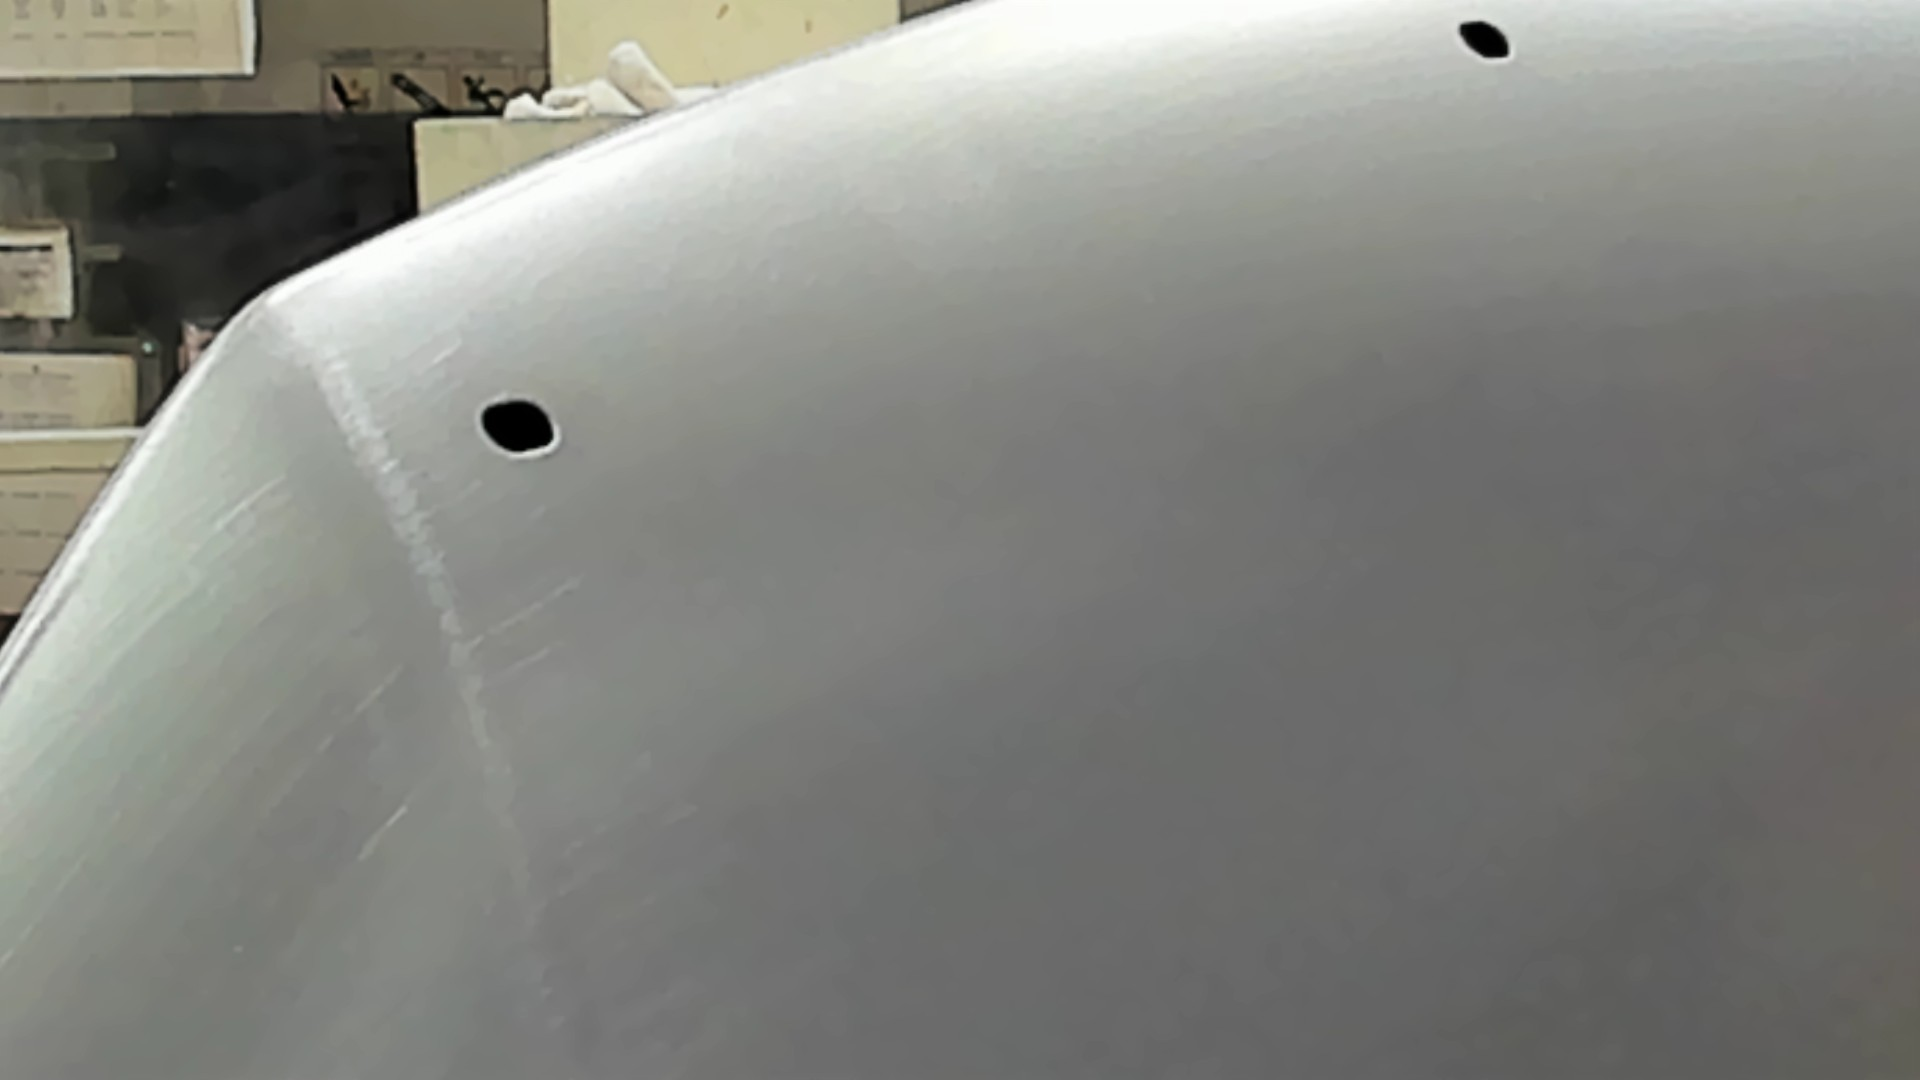amorfo: (475, 392, 563, 464), (1455, 13, 1515, 70)
